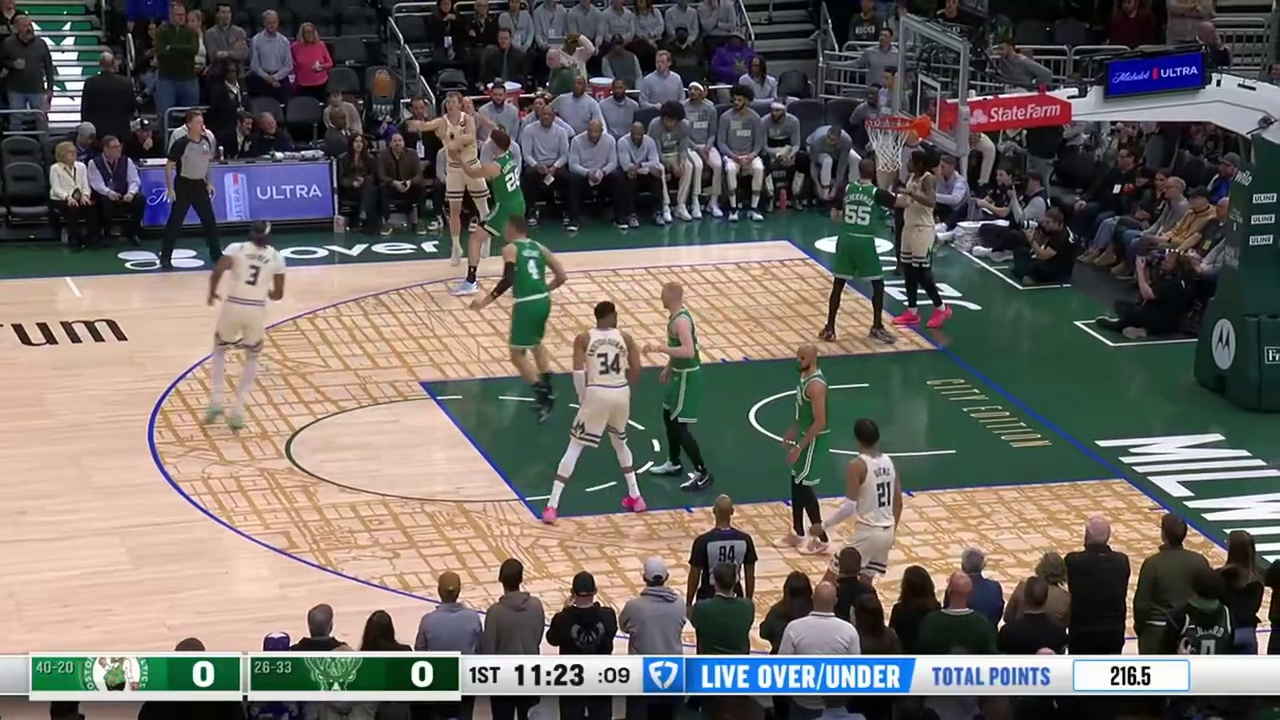21_OusmaneDieng: (822, 420, 922, 576)
24_CameronThomas: (895, 147, 962, 342)
28_HugoGonzalez: (467, 127, 555, 214)
30_SamHauser: (648, 276, 735, 497)
34_GiannisAntetokounmpo: (560, 300, 653, 519)
3_MylesTurner: (209, 214, 289, 419)
4_NikolaVucecic: (483, 214, 567, 402)
55_BaylorScheierman: (818, 157, 897, 353)
9_DerrickWhite: (775, 335, 840, 563)
